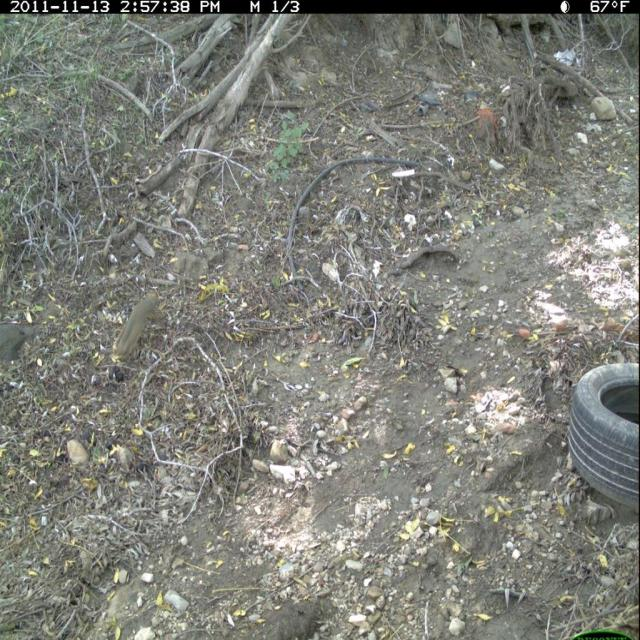squirrel: (116, 282, 165, 381)
